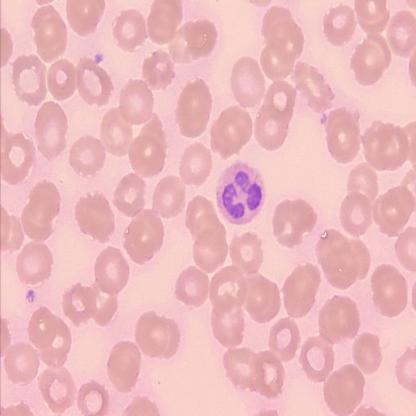Segmented neutrophil: (214, 160, 267, 228)
